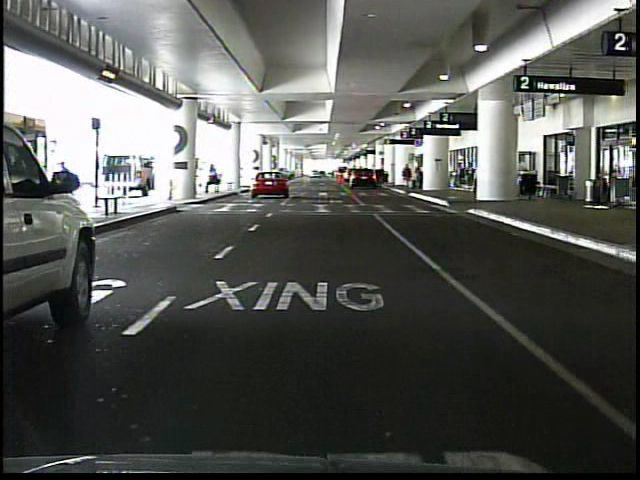person: (58, 159, 88, 217), (206, 166, 224, 195), (402, 163, 415, 192)
